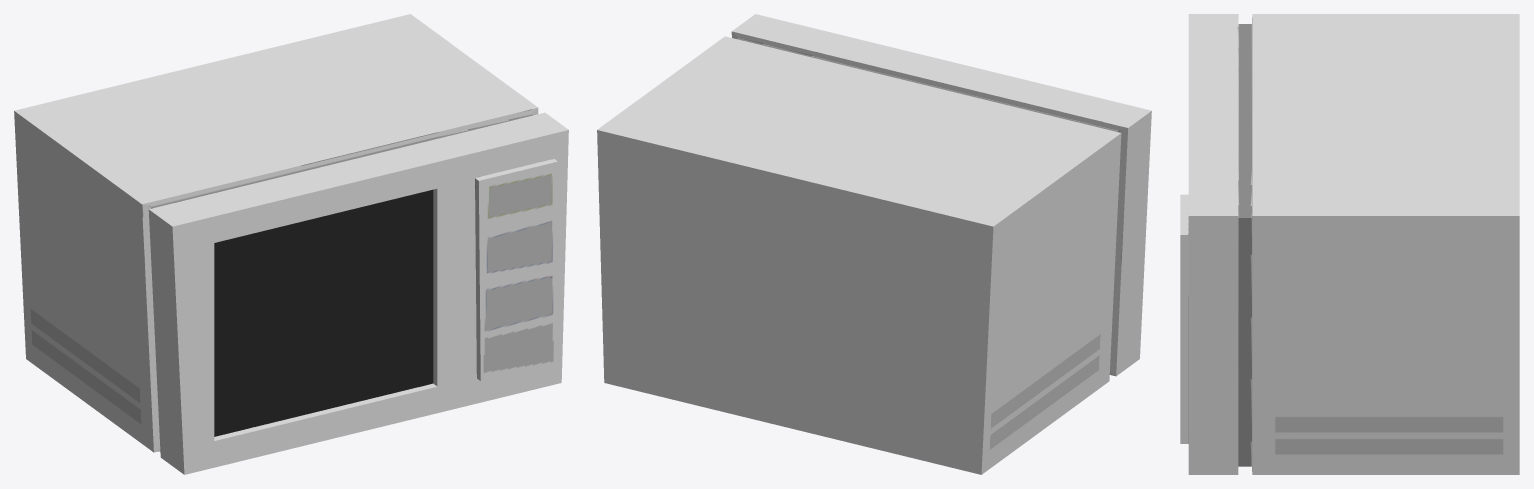
Rendered from Microondas.fbx.
The picture shows the model from 3 angles, left to right: view 1: azimuth 30°, elevation 25°; view 2: azimuth 150°, elevation 25°; view 3: azimuth 270°, elevation 25°; orthographic projection. The views are drawn at different scales.
Visible parts, largest first — view 1: Cube.002; view 2: Cube.002; view 3: Cube.002.
Part boxes in pixels (left/top/right/bottom): Cube.002: left=14, top=14, right=568, bottom=474; Cube.002: left=597, top=14, right=1151, bottom=474; Cube.002: left=1180, top=14, right=1519, bottom=474.
Size of the model in its own units: 57.79 by 35 by 40.98.
